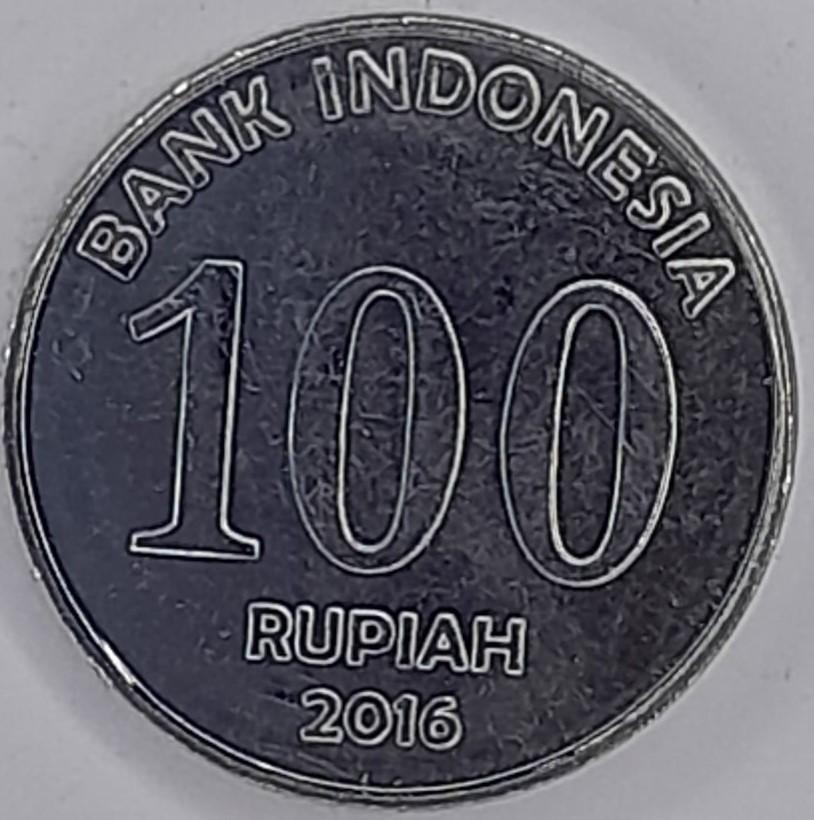coin_100_e2016: (0, 4, 803, 809)
